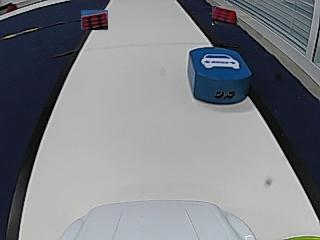safety: (200, 53, 240, 70)
